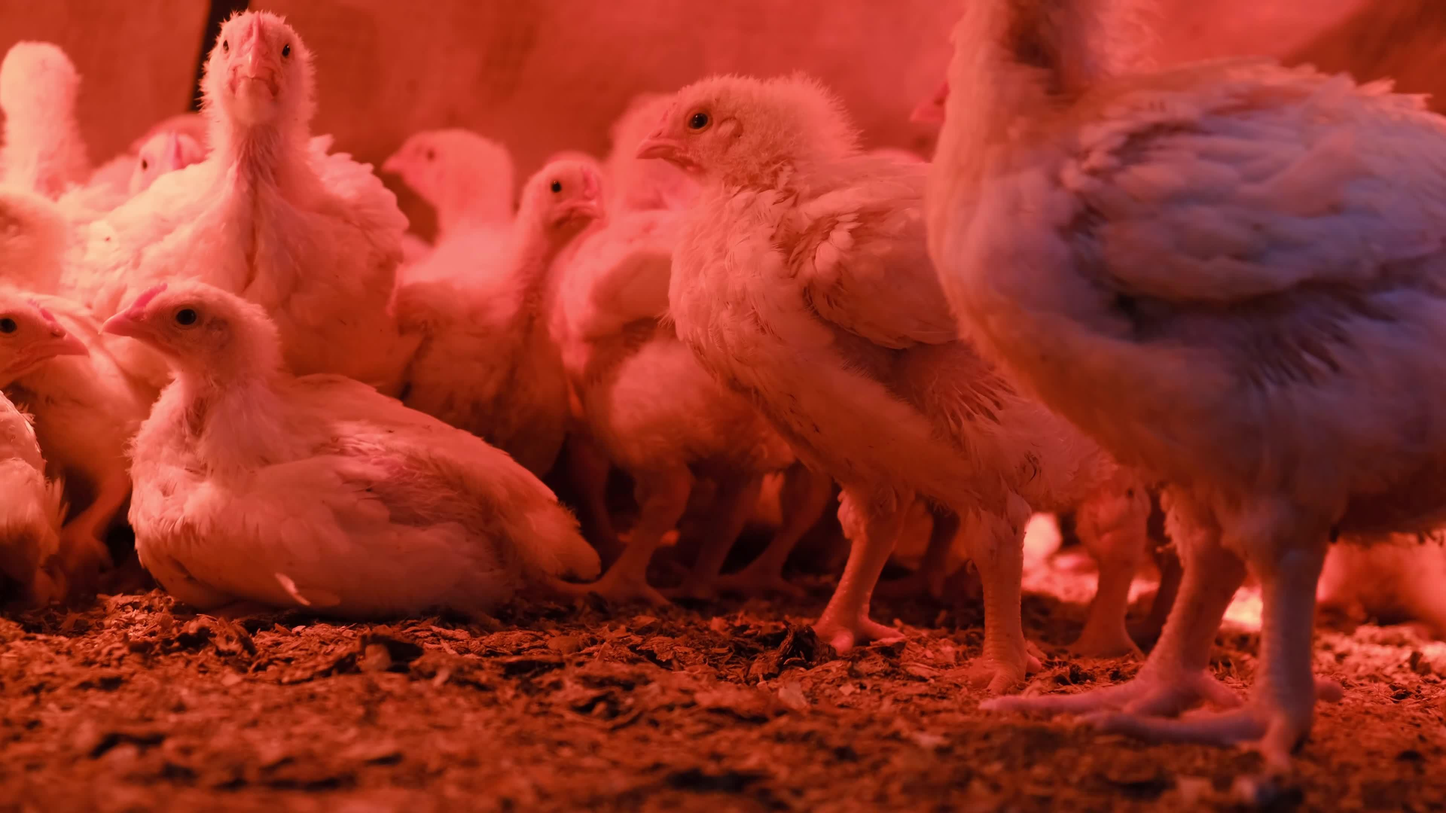AbNormal: (106, 275, 588, 613), (0, 279, 95, 620), (1317, 533, 1443, 631)
Normal: (925, 0, 1446, 772), (633, 76, 1123, 694), (89, 2, 429, 398), (394, 147, 616, 491), (373, 123, 519, 286), (0, 32, 85, 182), (2, 174, 79, 291), (128, 121, 211, 200)
